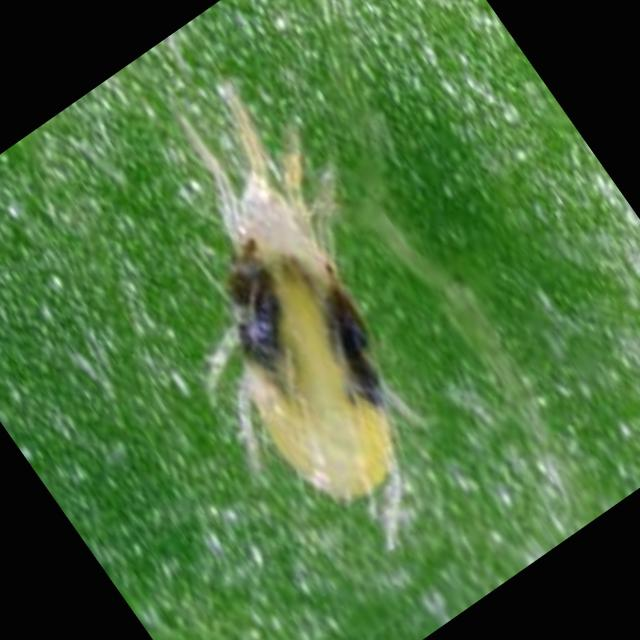spider mite: (0, 13, 576, 630)
